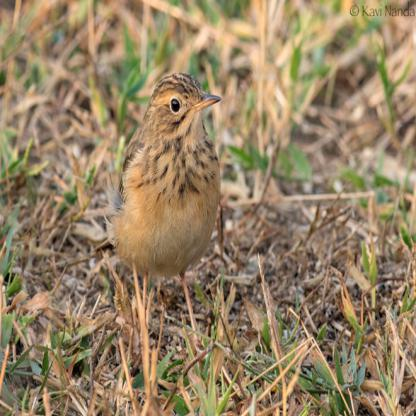Burung: (104, 75, 222, 315)
